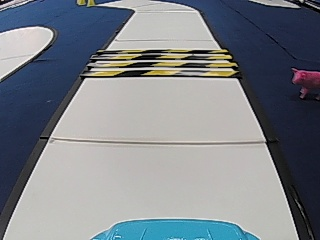bump: (77, 44, 243, 83)
